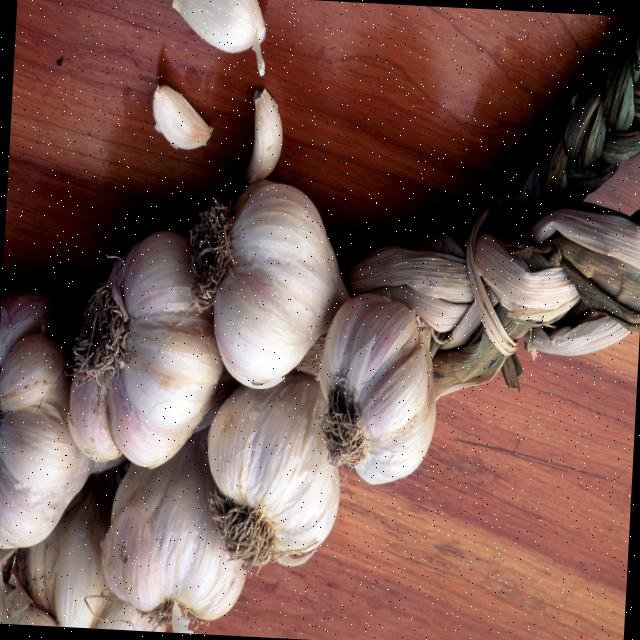garlic: (67, 231, 222, 467), (214, 180, 348, 388), (102, 430, 245, 620), (208, 372, 339, 569), (0, 293, 93, 548), (318, 294, 435, 484), (172, 0, 265, 76), (151, 83, 213, 151), (152, 85, 212, 149), (246, 89, 282, 183)
